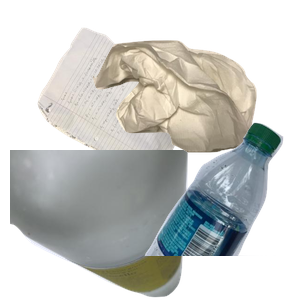glass: (10, 150, 190, 300)
paper: (35, 25, 232, 204)
plastic: (142, 120, 300, 300)
trash: (90, 38, 300, 183)
